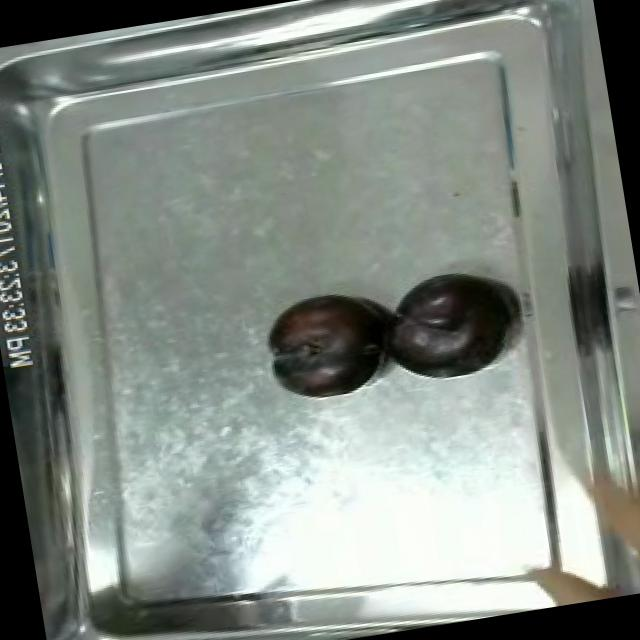Fruit: (374, 260, 520, 382), (254, 280, 395, 402)
